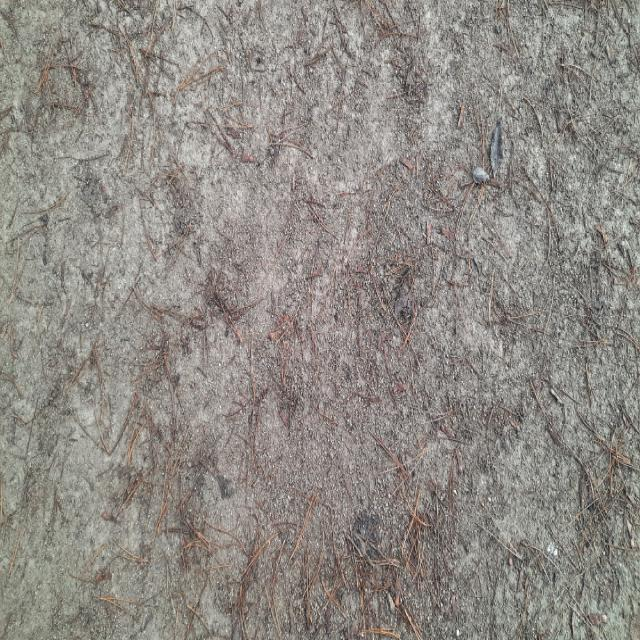white-sand: (0, 2, 639, 638)
